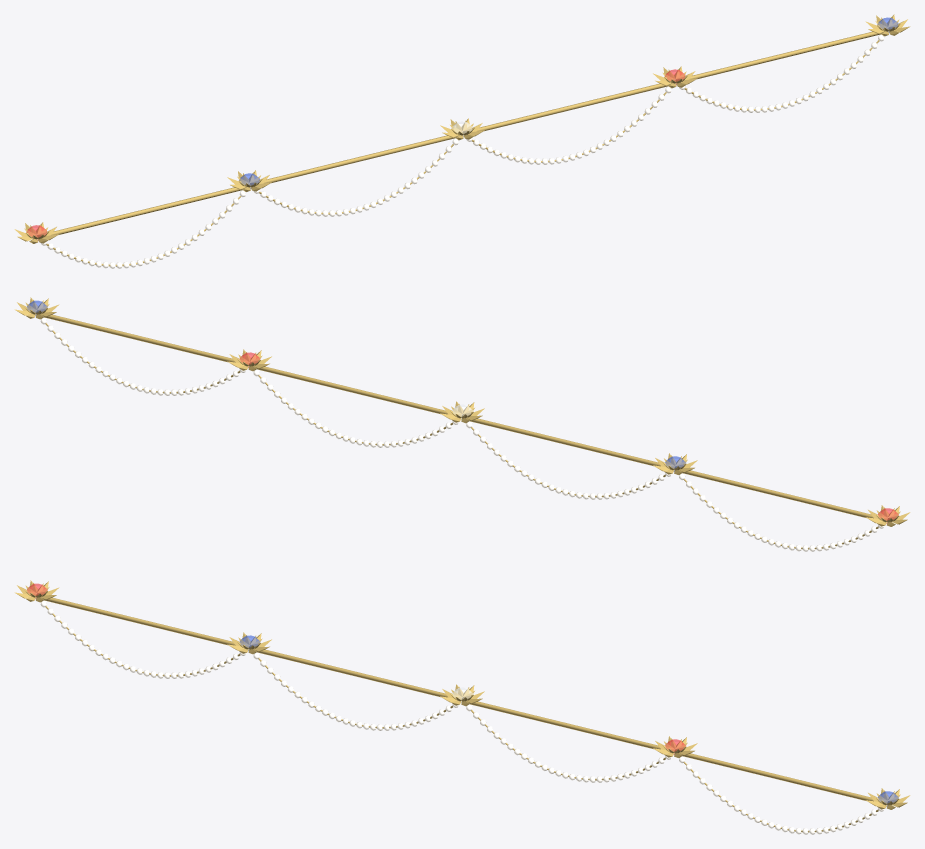
File: ramou_lod.glb
The picture shows the model from 3 angles, top to bottom: view 1: azimuth 30°, elevation 25°; view 2: azimuth 150°, elevation 25°; view 3: azimuth 330°, elevation 25°; orthographic projection.
Parts seen in each view (by area): view 1: gold_wire, pearl_batch, gold_fitting; view 2: gold_wire, pearl_batch, gold_fitting; view 3: gold_wire, pearl_batch, gold_fitting.
Part boxes in pixels (<box>): gold_wire: <box>46,30,883,266</box>; pearl_batch: <box>37,31,889,268</box>; gold_fitting: <box>14,14,910,243</box>; gold_wire: <box>41,313,878,549</box>; pearl_batch: <box>35,314,887,551</box>; gold_fitting: <box>14,297,910,526</box>; gold_wire: <box>41,596,878,832</box>; pearl_batch: <box>35,597,887,834</box>; gold_fitting: <box>14,580,910,809</box>.
Size of the model in its own units: 13 by 0.8861 by 0.6.
